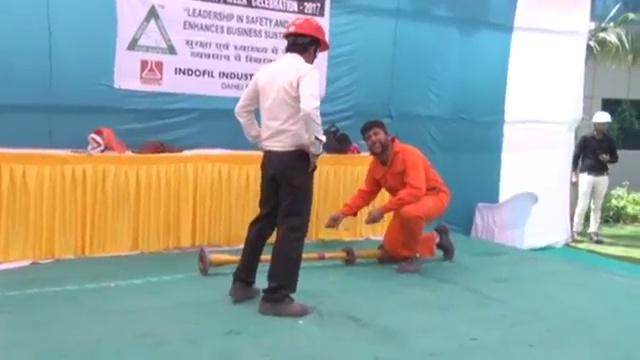helmet: (283, 16, 330, 51), (591, 111, 611, 125)
helmet_off: (361, 119, 389, 157)
helmet_on: (282, 17, 329, 65), (591, 109, 611, 138)
person: (230, 16, 330, 319), (326, 119, 454, 275), (569, 109, 618, 247)
